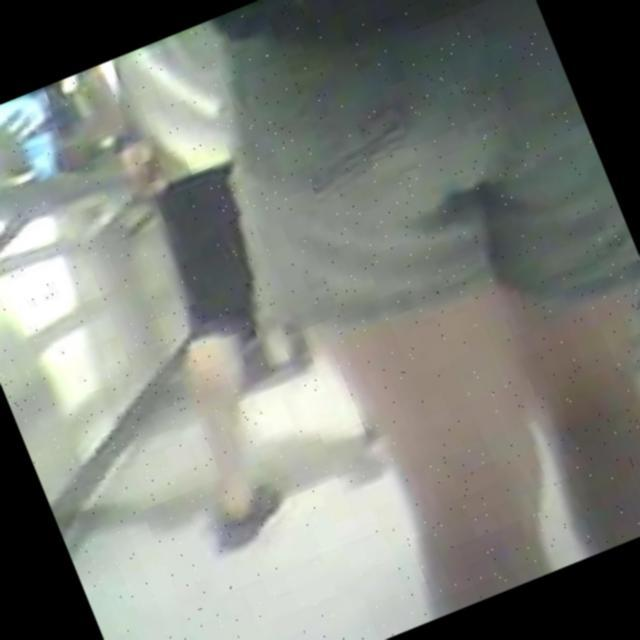person: (164, 0, 640, 631), (37, 18, 408, 553)
